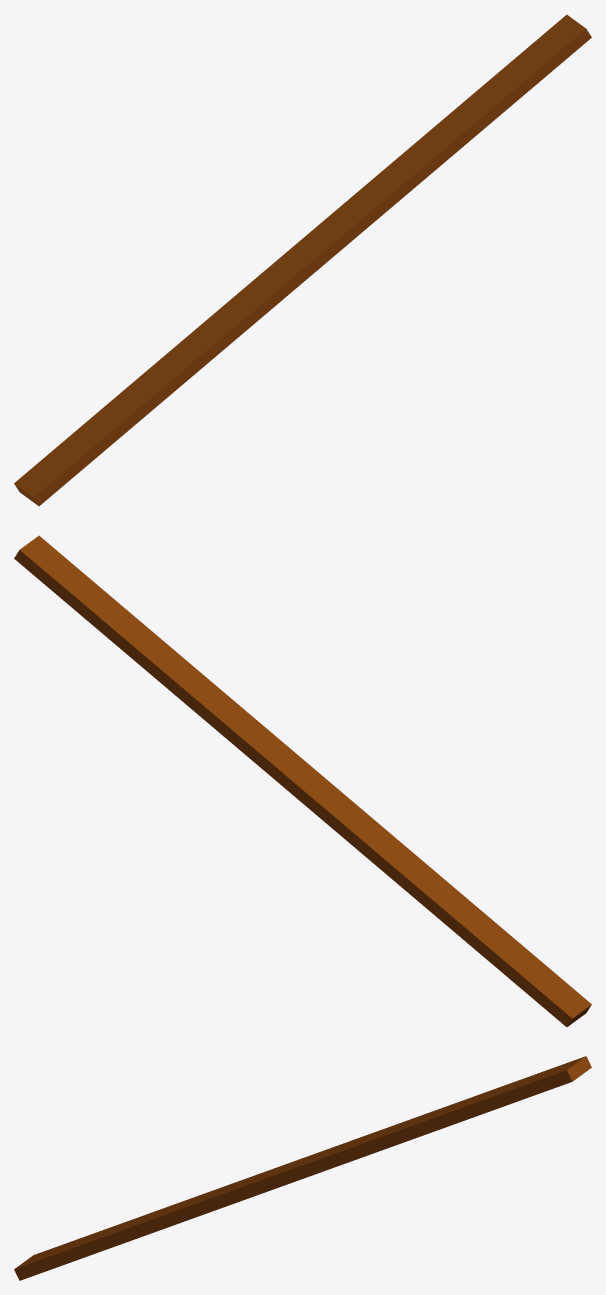
File: Plank.fbx
3 views of the same model, one above another, from view 1: azimuth 30°, elevation 25°; view 2: azimuth 150°, elevation 25°; view 3: azimuth 330°, elevation 25° (orthographic).
Parts seen in each view (by area): view 1: Plank; view 2: Plank; view 3: Plank.
Part boxes in pixels (box(x1,y1,x2,y2)): Plank: box(14, 14, 591, 506); Plank: box(14, 535, 591, 1027); Plank: box(14, 1056, 591, 1280).
Size of the model in its own units: 496 by 292 by 30.
